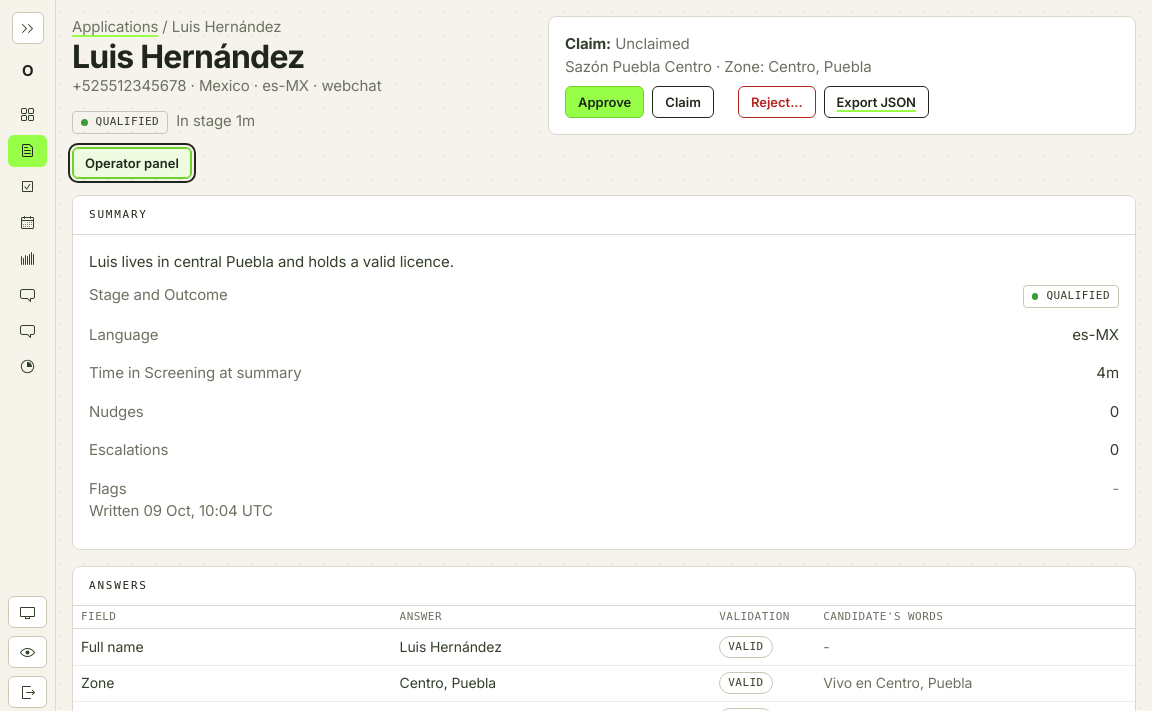
Test: Operator panel: who sees it (UI8) › closes and reopens from the toggle, which keeps the focus and flips aria-expanded
Click the button "Operator panel": (132, 163) top-left (72, 147), bottom-right (192, 179)
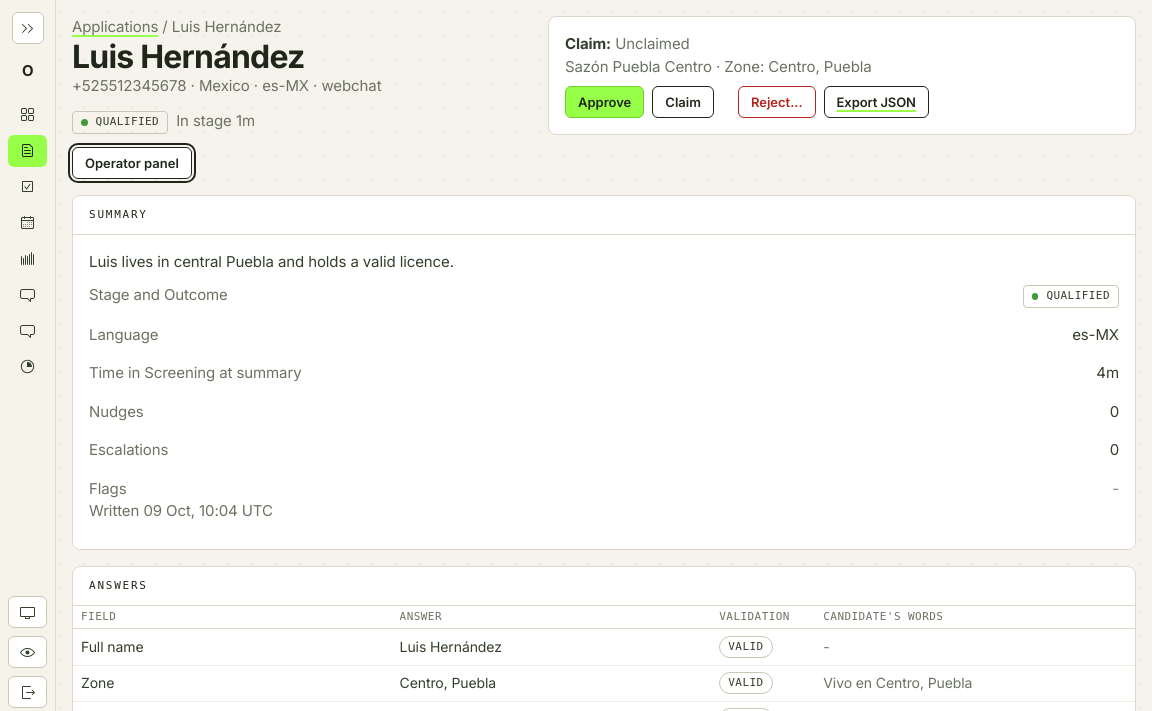
Expected: the button "Operator panel" is collapsed
Click the button "Operator panel": (132, 163) top-left (72, 147), bottom-right (192, 179)
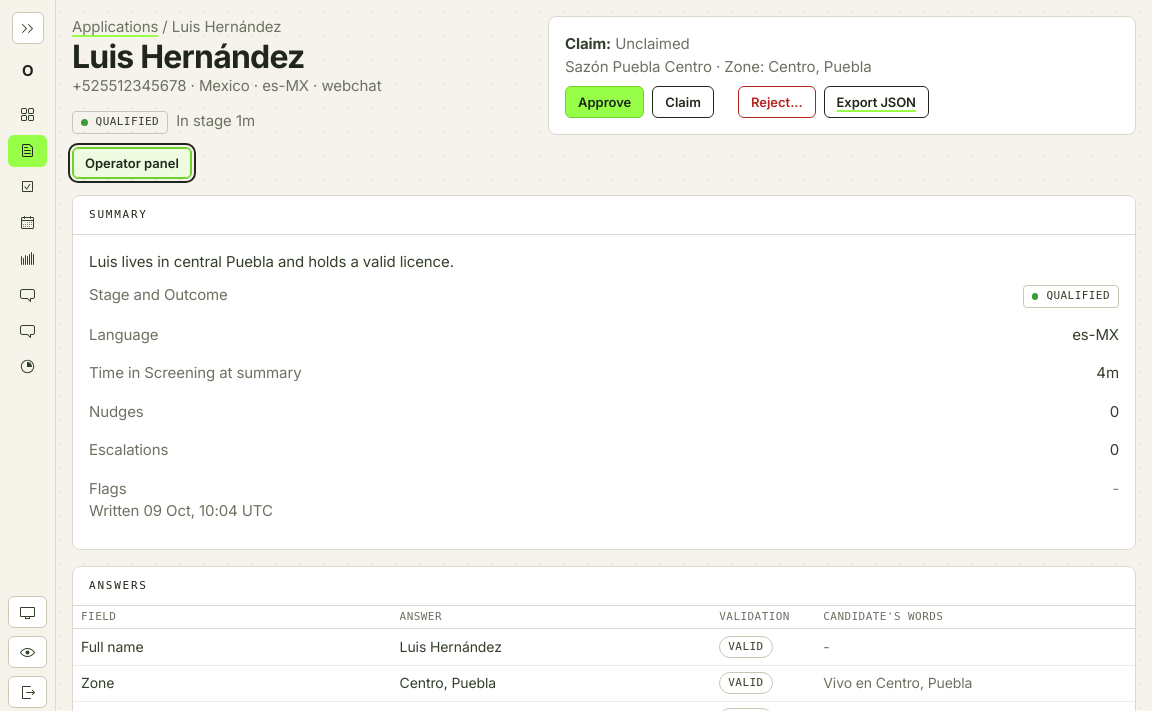
Expected: the button "Operator panel" is expanded, top-left (72, 147), bottom-right (192, 179)
